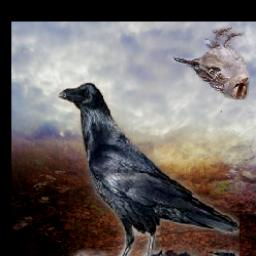Crow: (58, 81, 239, 256)
Sparrow: (168, 25, 251, 100)
